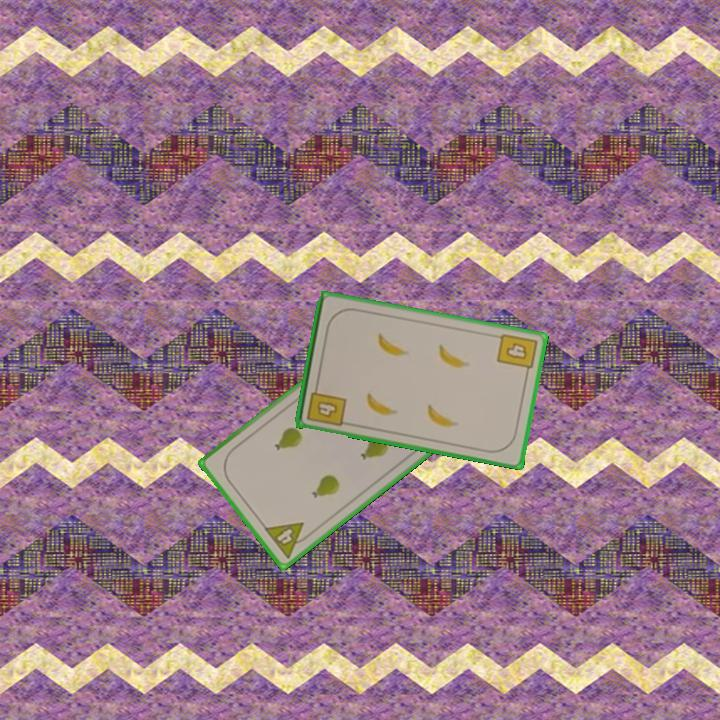4b: (493, 330, 540, 379), (303, 381, 349, 429)
4p: (260, 519, 315, 562)
